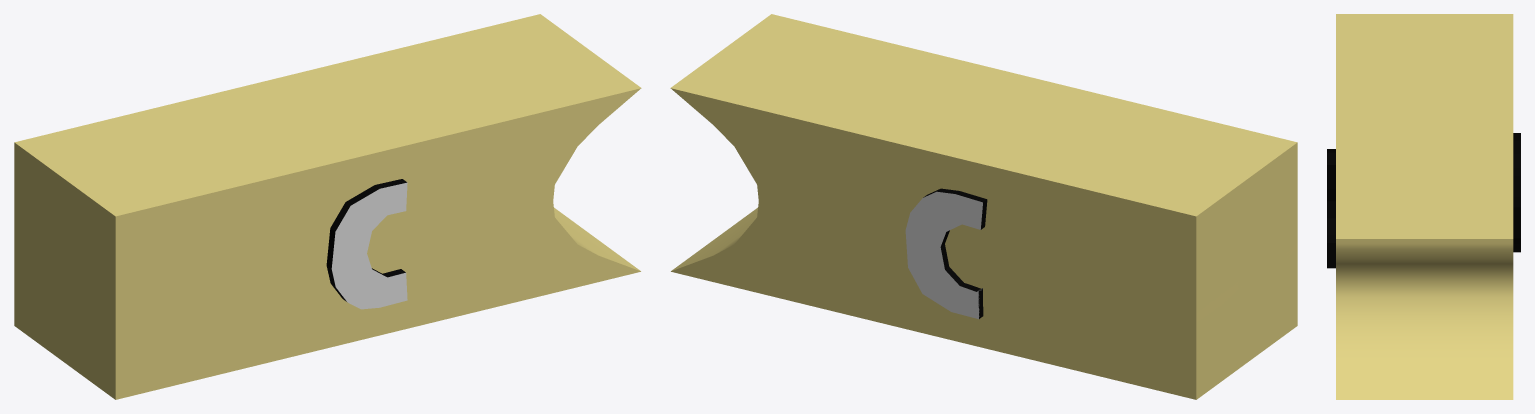
The picture shows the model from 3 angles, left to right: view 1: azimuth 30°, elevation 25°; view 2: azimuth 150°, elevation 25°; view 3: azimuth 270°, elevation 25°; orthographic projection. The views are drawn at different scales.
Parts seen in each view (by area): view 1: pCube7; view 2: pCube7; view 3: pCube7.
Boxes of the visible parts, left/top/right/bottom form: pCube7: left=14, top=14, right=641, bottom=399; pCube7: left=670, top=14, right=1297, bottom=399; pCube7: left=1327, top=14, right=1520, bottom=399.
Size of the model in its own units: 3 by 1 by 1.1.
